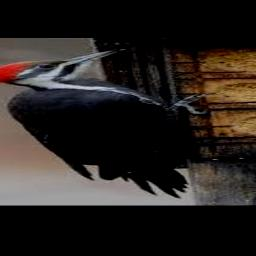Woodpecker: (0, 48, 211, 198)
